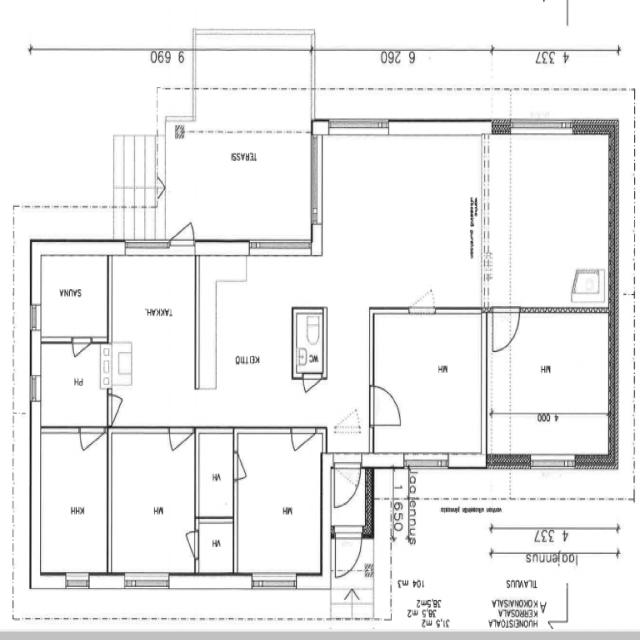door: (334, 454, 360, 506), (335, 527, 361, 577), (370, 387, 400, 426), (493, 308, 519, 352), (170, 207, 193, 256), (80, 428, 104, 469), (292, 428, 315, 468), (170, 428, 192, 468), (108, 396, 133, 426), (72, 337, 91, 370), (233, 454, 256, 481), (303, 374, 321, 406), (176, 532, 198, 558)
